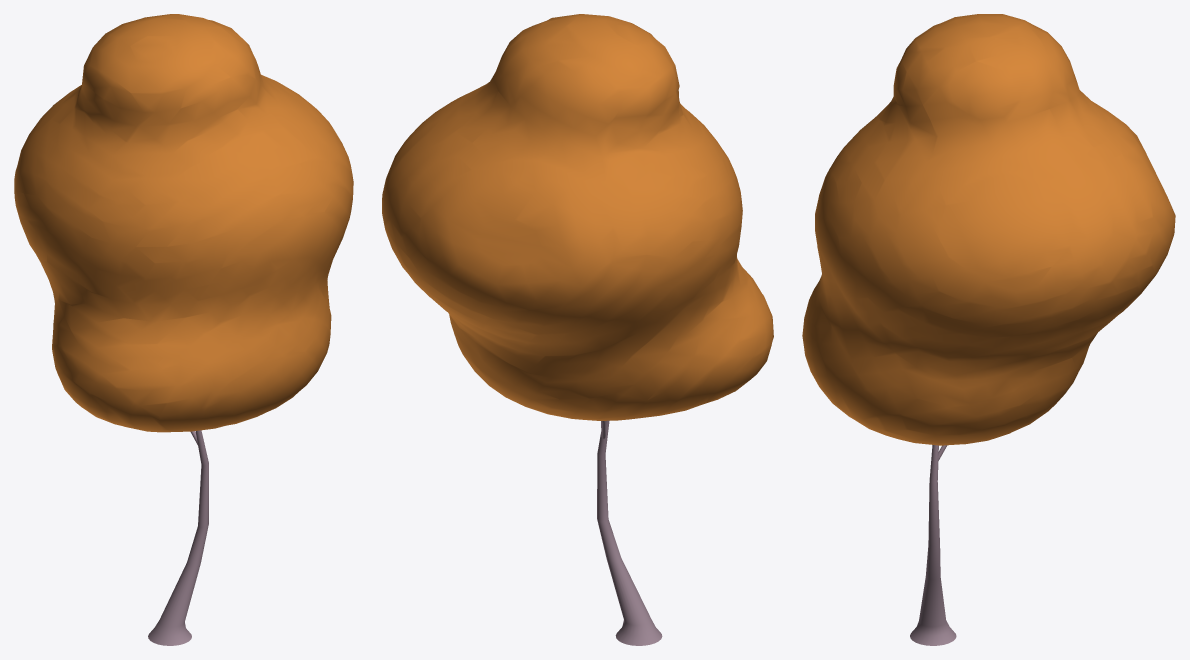
File: tree04.fbx
3 views of the same model, side by side, from view 1: azimuth 30°, elevation 25°; view 2: azimuth 150°, elevation 25°; view 3: azimuth 270°, elevation 25° (orthographic). The views are drawn at different scales.
Visible parts, largest first — view 1: Wood_1_43; view 2: Wood_1_43; view 3: Wood_1_43.
Part boxes in pixels (x1,y1,x2,y2): Wood_1_43: [14, 14, 353, 645]; Wood_1_43: [382, 14, 773, 645]; Wood_1_43: [802, 14, 1175, 645].
Size of the model in its own units: 139 by 262 by 142.
